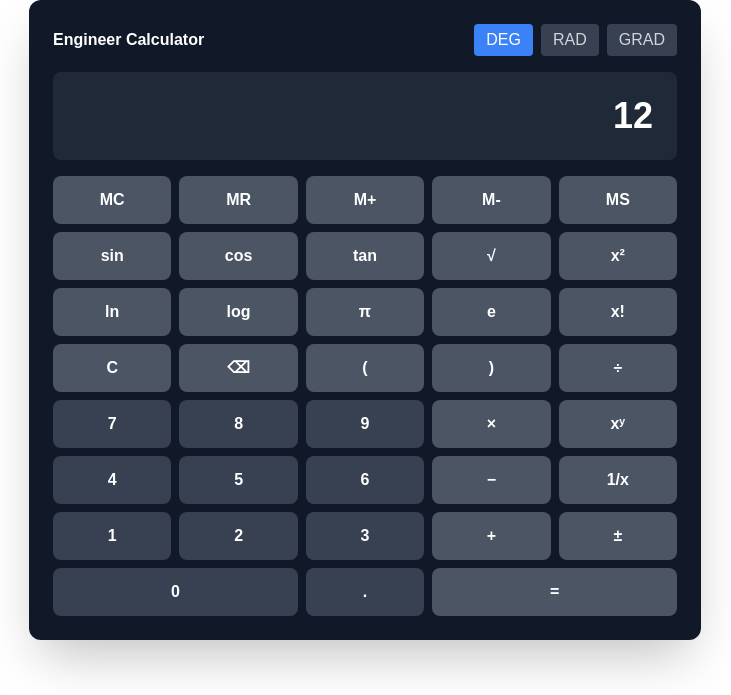
Calculator Component › should handle decimal point
Note: Clear first to ensure clean state
What coordinates should you click on to do the following:
click the button "C"
I would click on:
 (112, 368)
Its box is [53,344,171,392].
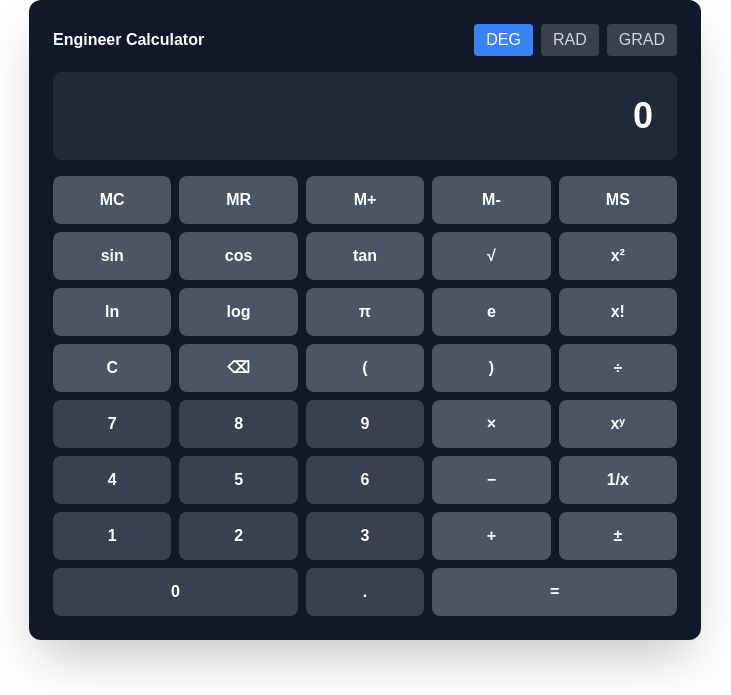
What coordinates should you click on to do the following:
click the button "1"
I would click on:
 (112, 536)
Its box is [53,512,171,560].
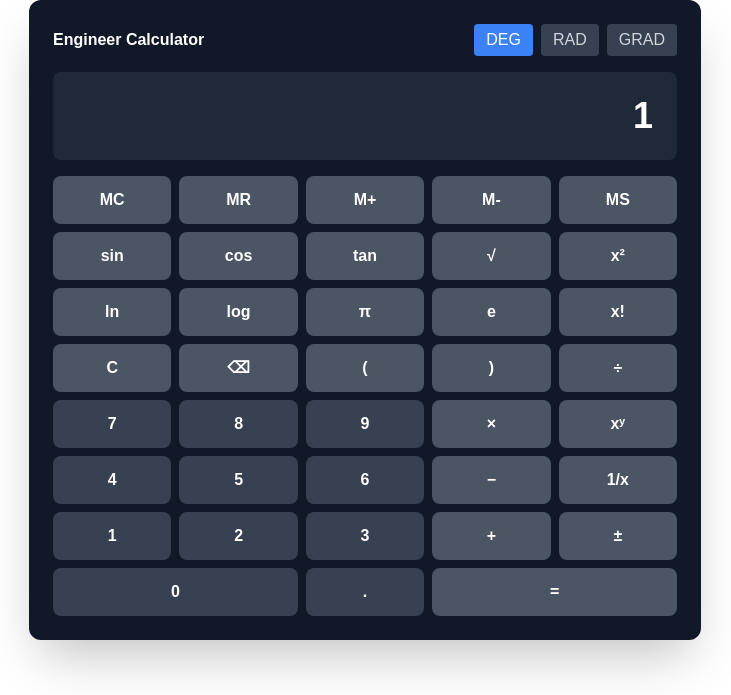
What coordinates should you click on to do the following:
click the button "."
I would click on:
 (365, 592)
Its box is [306,568,424,616].
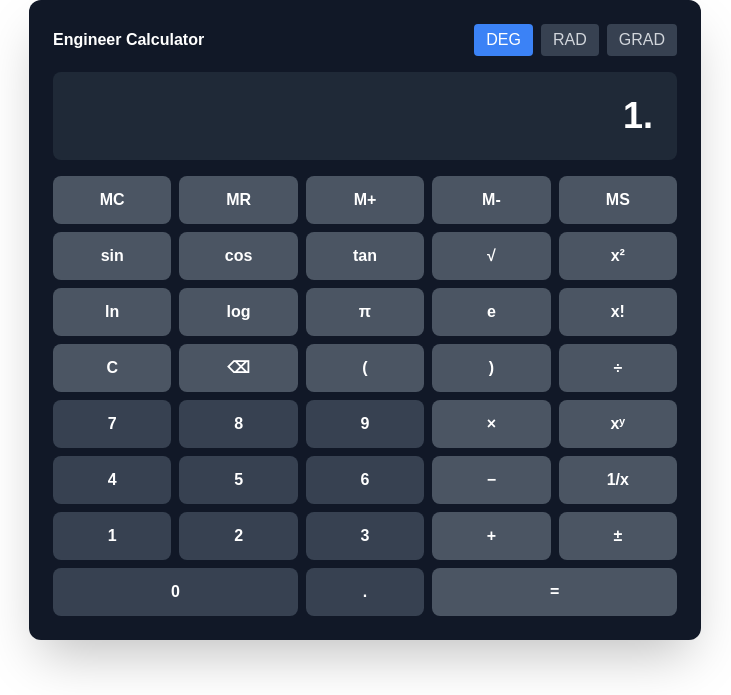
What coordinates should you click on to do the following:
click the button "5"
I would click on:
 (239, 480)
Its box is [179,456,298,504].
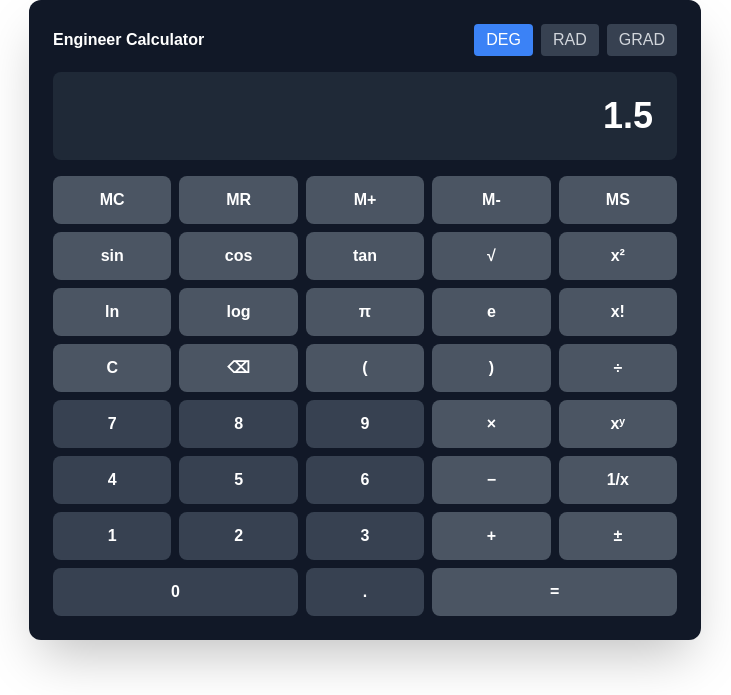
expect the text "1.5" is shown: met, box [603,95,653,136]
